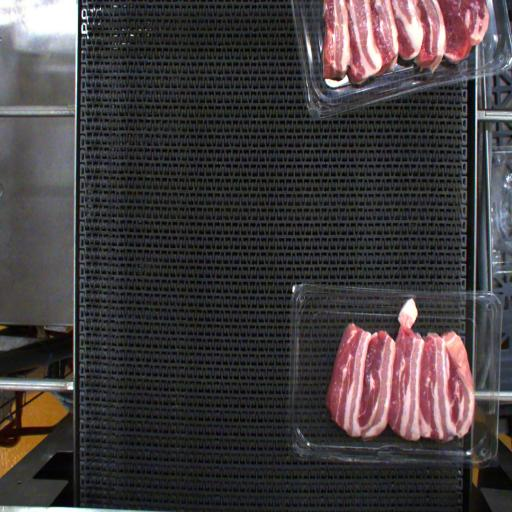loose-meat: (380, 286, 432, 338)
